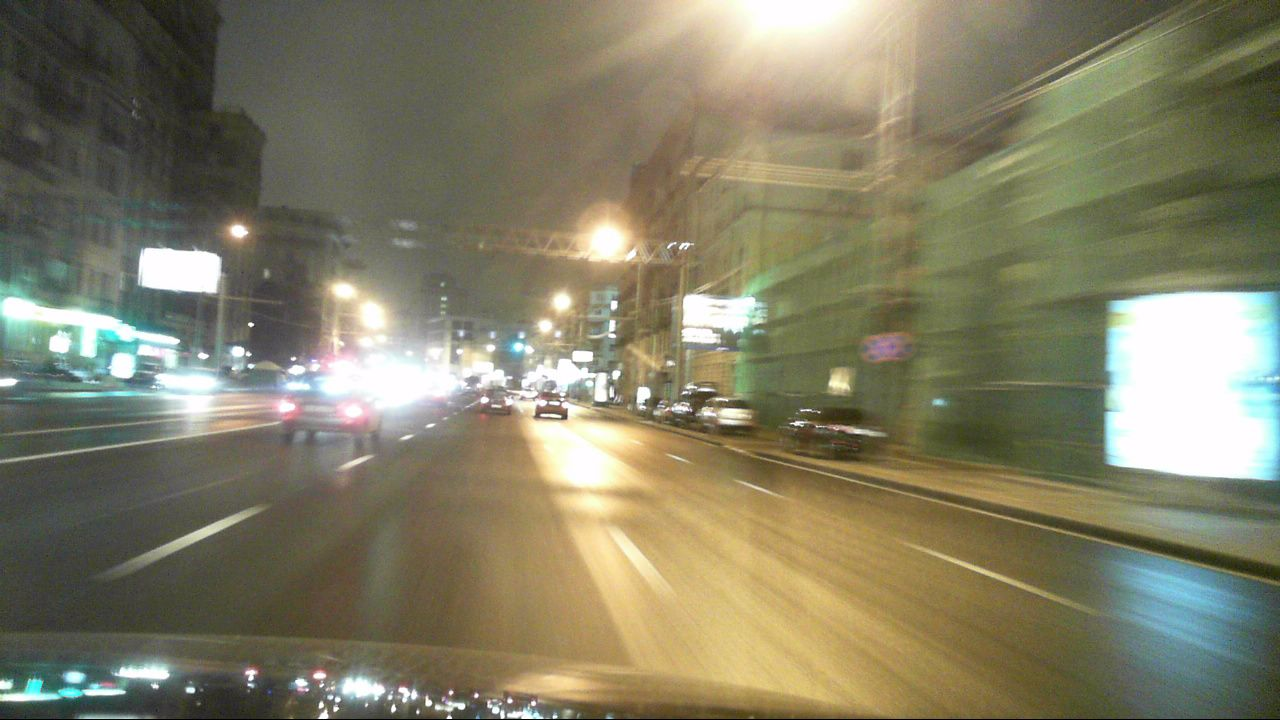No Parking: (860, 333, 891, 363)
